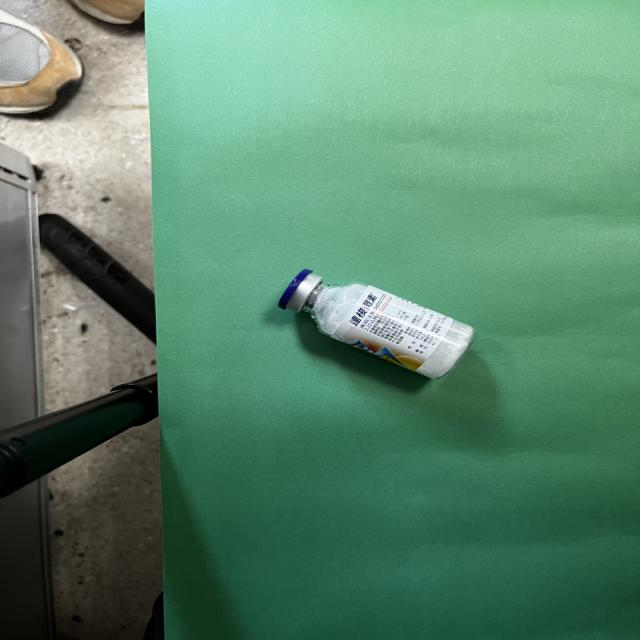Vials: (279, 270, 473, 378)
